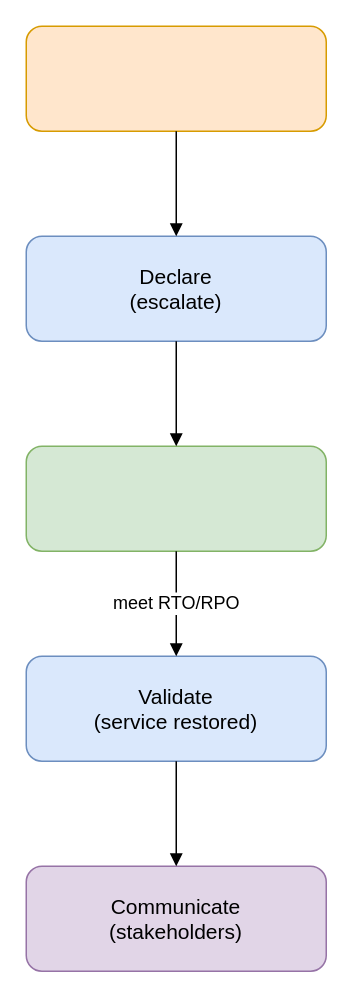
Image size: 353x998. Some labels were removed from this diagram. Here are the shapes that lost their labels. From the top down, the box of each, then its label:
(25, 25, 326, 131): Detect (alarm fires)
(25, 445, 326, 551): Recover (execute steps)
